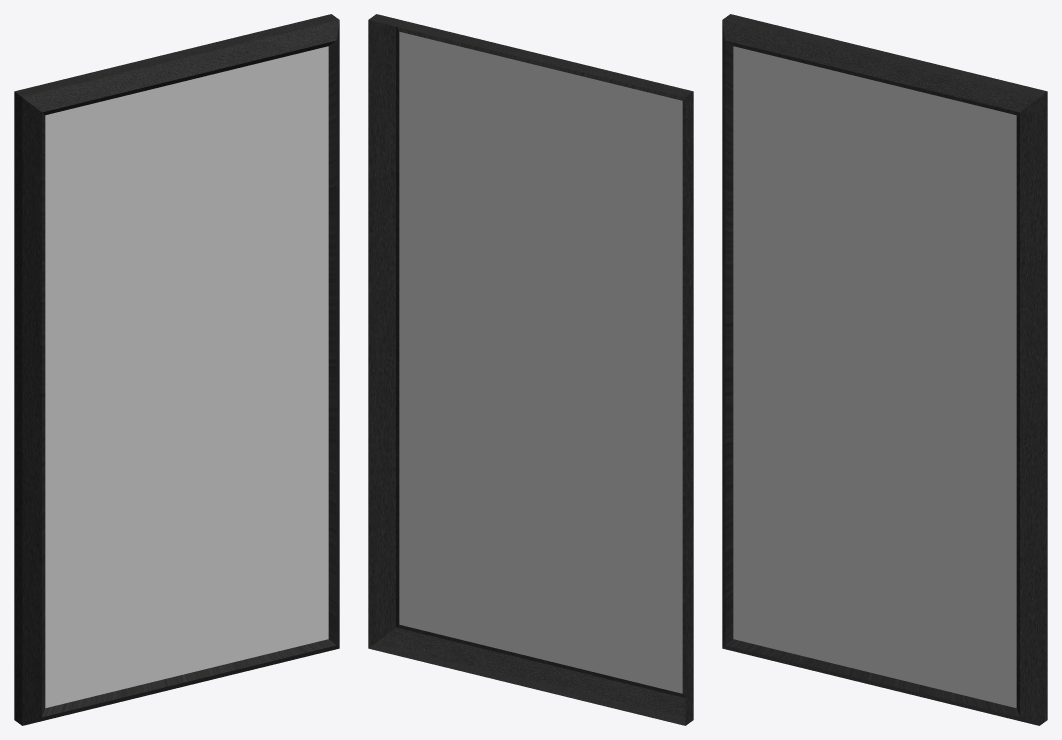
Rendered from npc_panels.dae.
3 renders of one model, left to right at view 1: azimuth 30°, elevation 25°; view 2: azimuth 150°, elevation 25°; view 3: azimuth 330°, elevation 25°, orthographic.
Visible parts, largest first — view 1: npc_infopanel; view 2: npc_infopanel; view 3: npc_infopanel.
Part boxes in pixels (x1=…): npc_infopanel: x1=14, y1=14, x2=339, y2=725; npc_infopanel: x1=368, y1=14, x2=693, y2=725; npc_infopanel: x1=722, y1=14, x2=1047, y2=725.
Bounding box in the file's own units: 1.12 × 0.1 × 2.12.
Materials: 2 (1 with a texture image).
